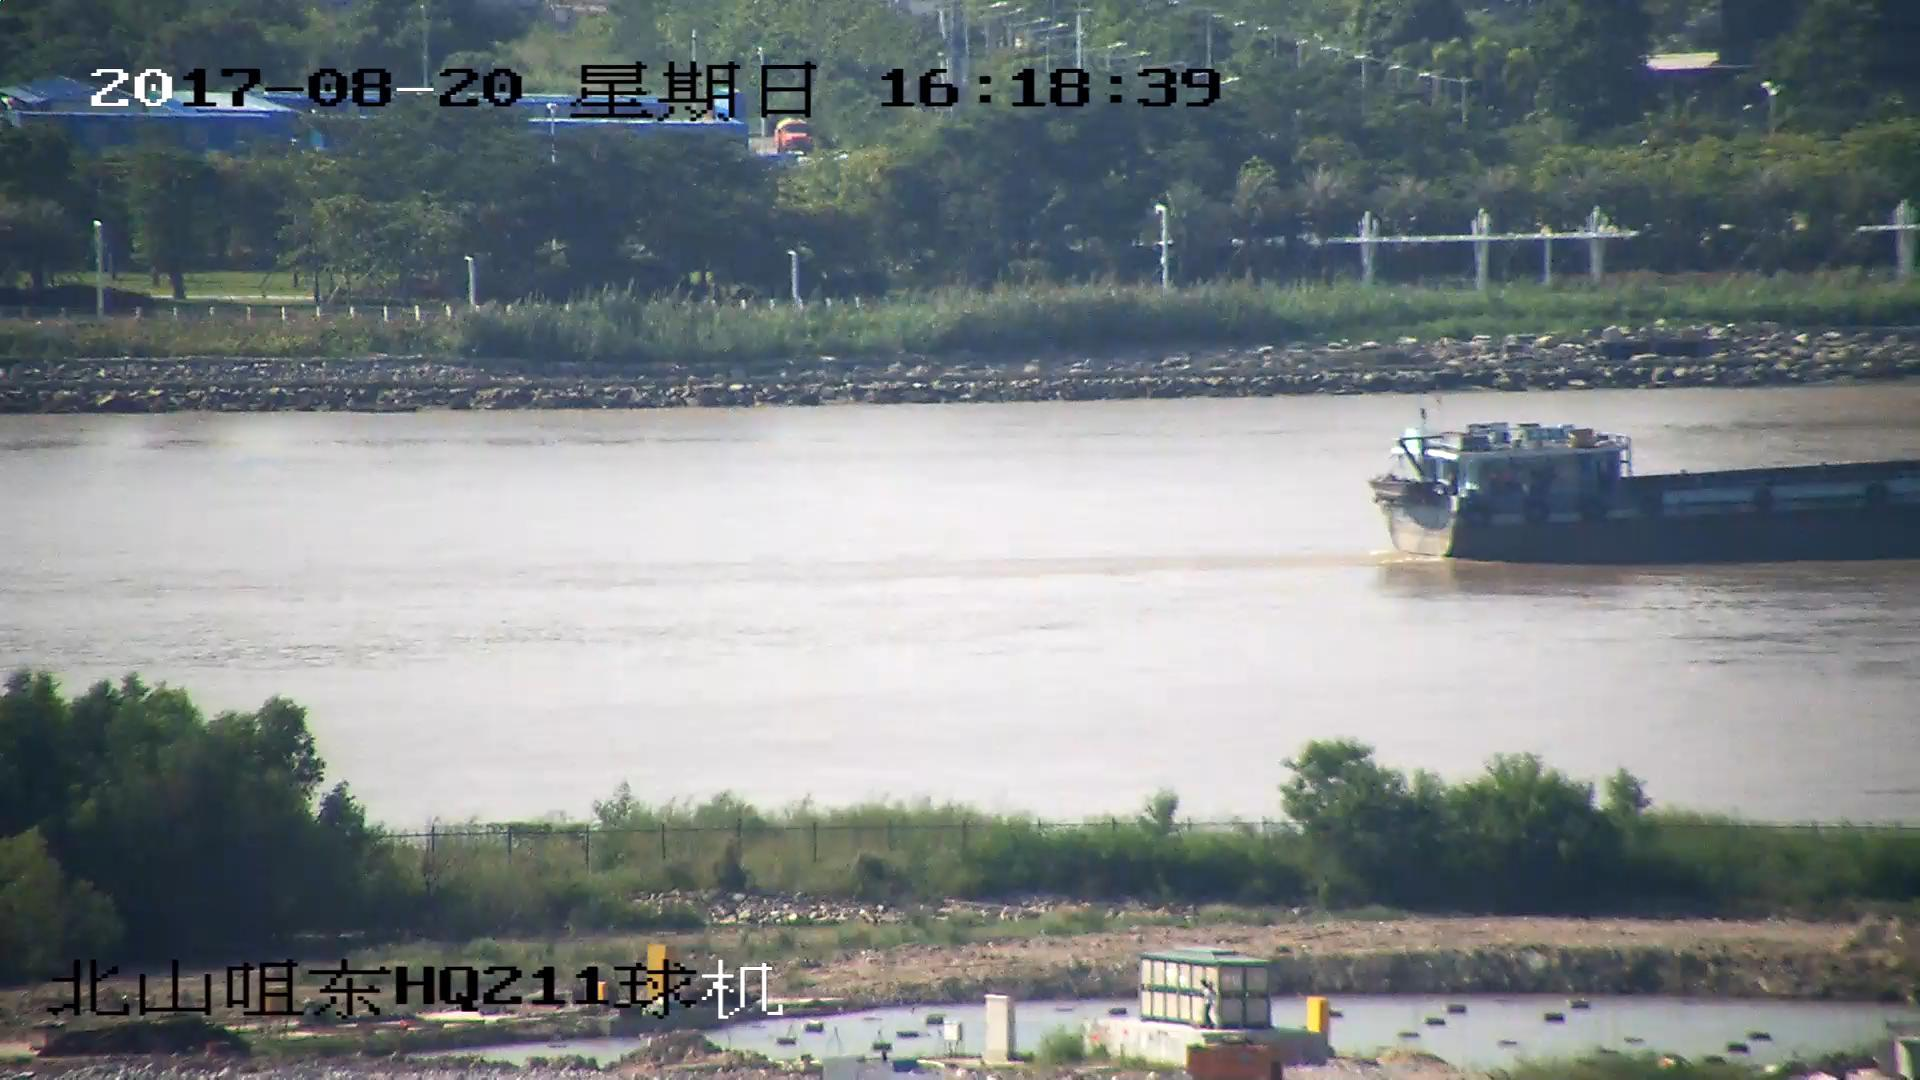Ship: (1389, 421, 1920, 558)
